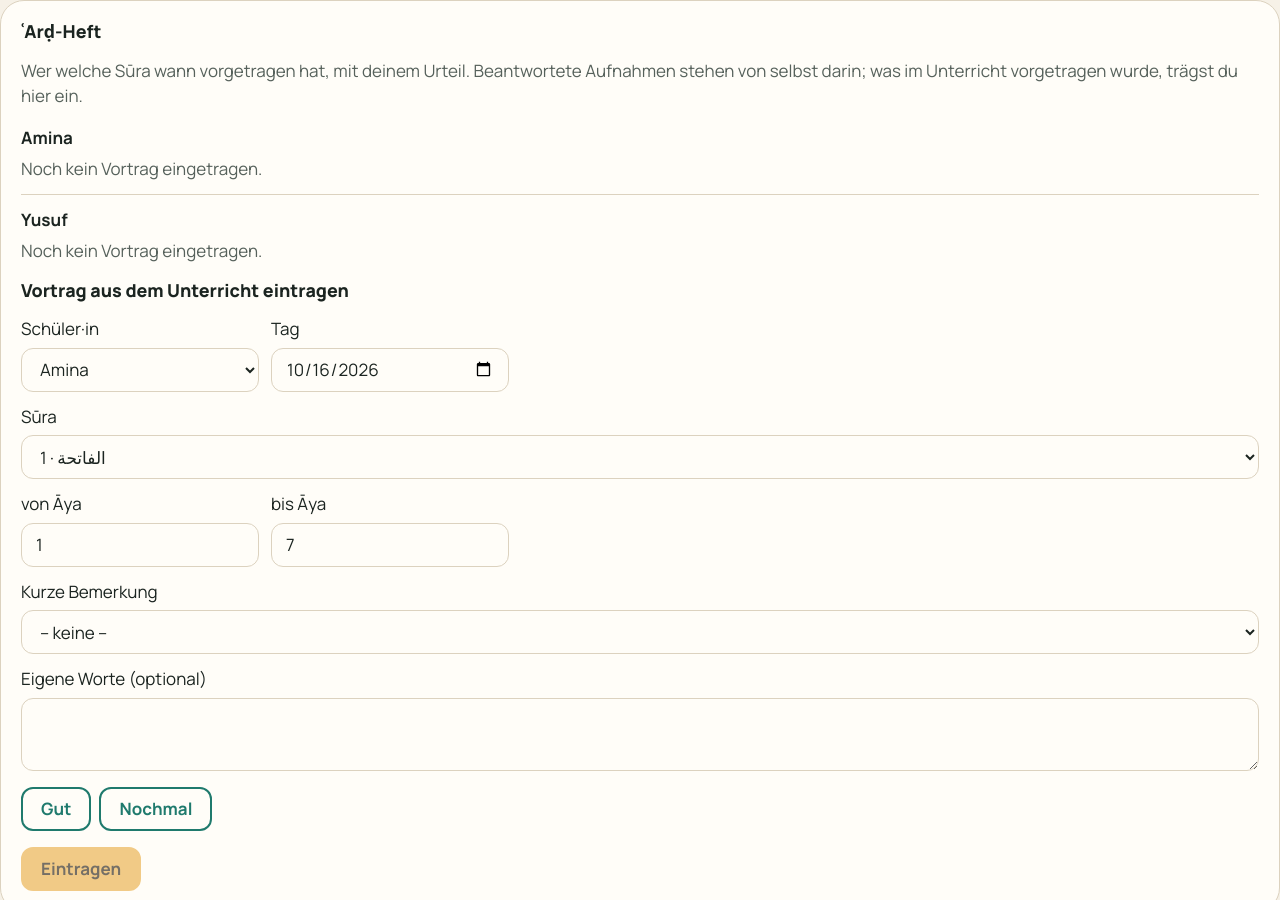
Test case: the ʿarḍ log for the sheikh (T4) › writes what was recited face to face
expect the button "Eintragen" is disabled: met, box [21,846,141,890]
Select "Yusuf" in the dropdown labelled "Schüler·in": (140, 370) [21,348,259,392]
Select "112 · الإخلاص" in the dropdown labelled "Sūra": (640, 457) [21,435,1259,479]
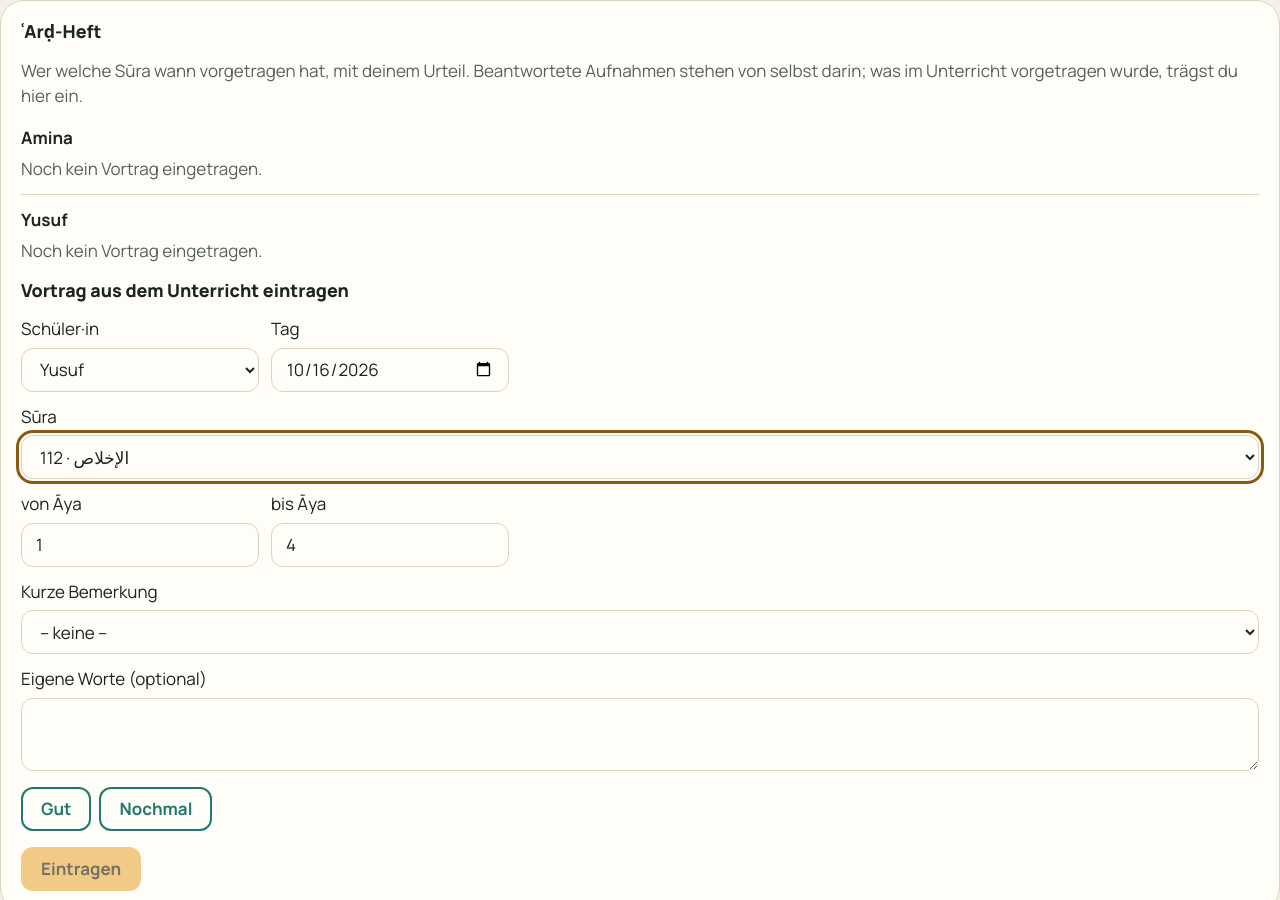
In the date field labelled "Tag": (390, 370) [271,348,509,392], type "2026-01-05"
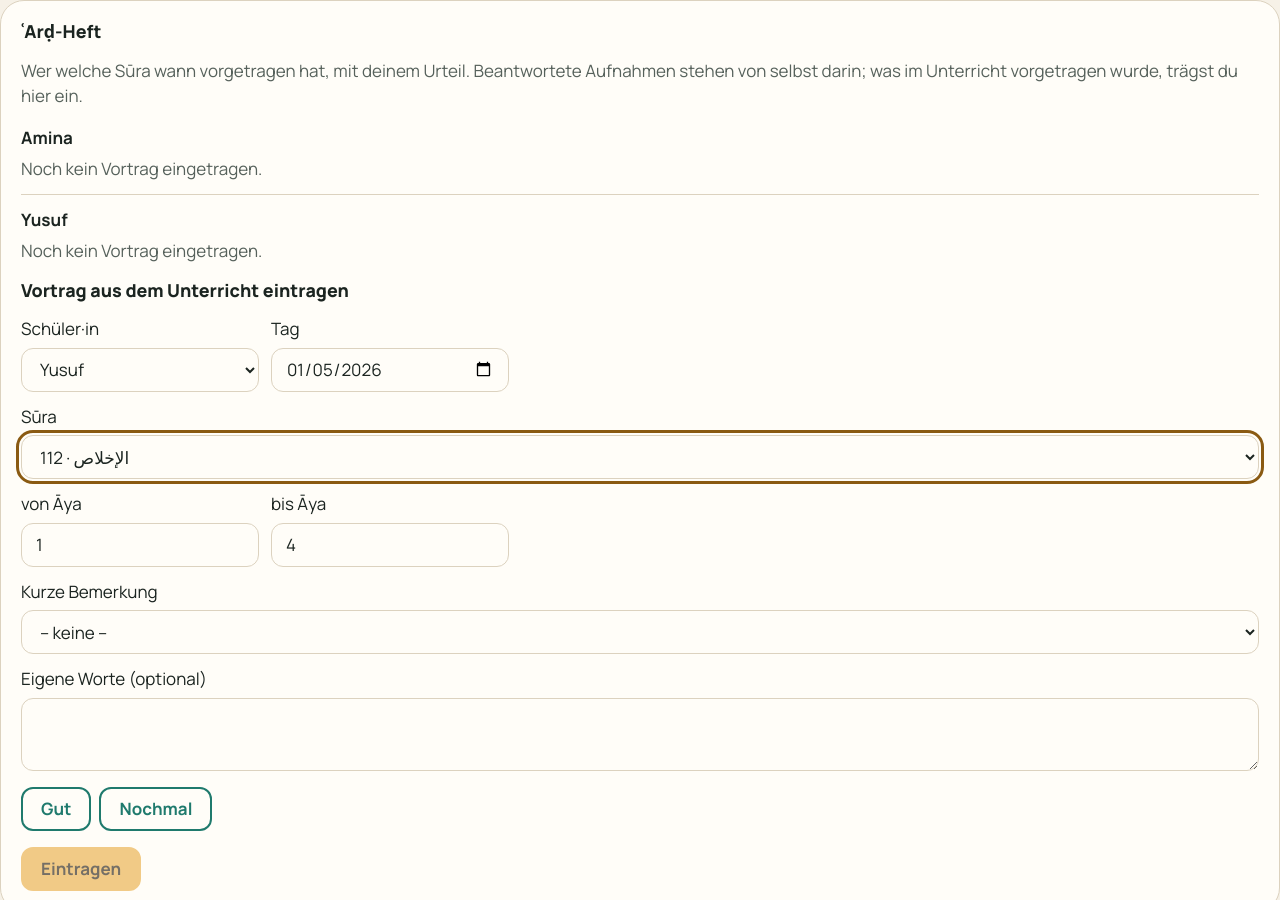
Select "Ghunna zu kurz – halte sie 2 Zählzeiten." in the dropdown labelled "Kurze Bemerkung": (640, 632) [21,610,1259,654]
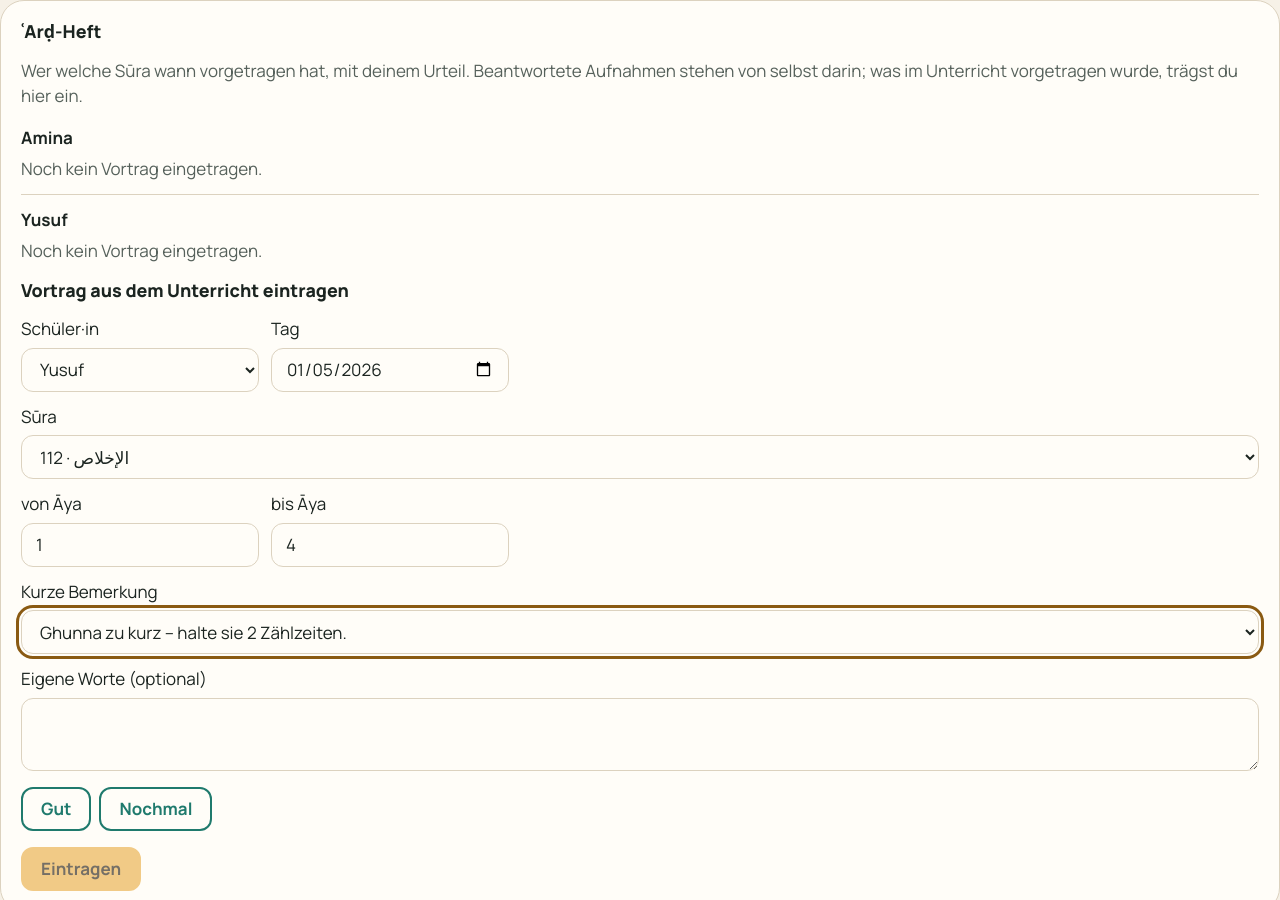
In the text box: (640, 734) [21,698,1259,770], type "  Sehr schön gelesen. "
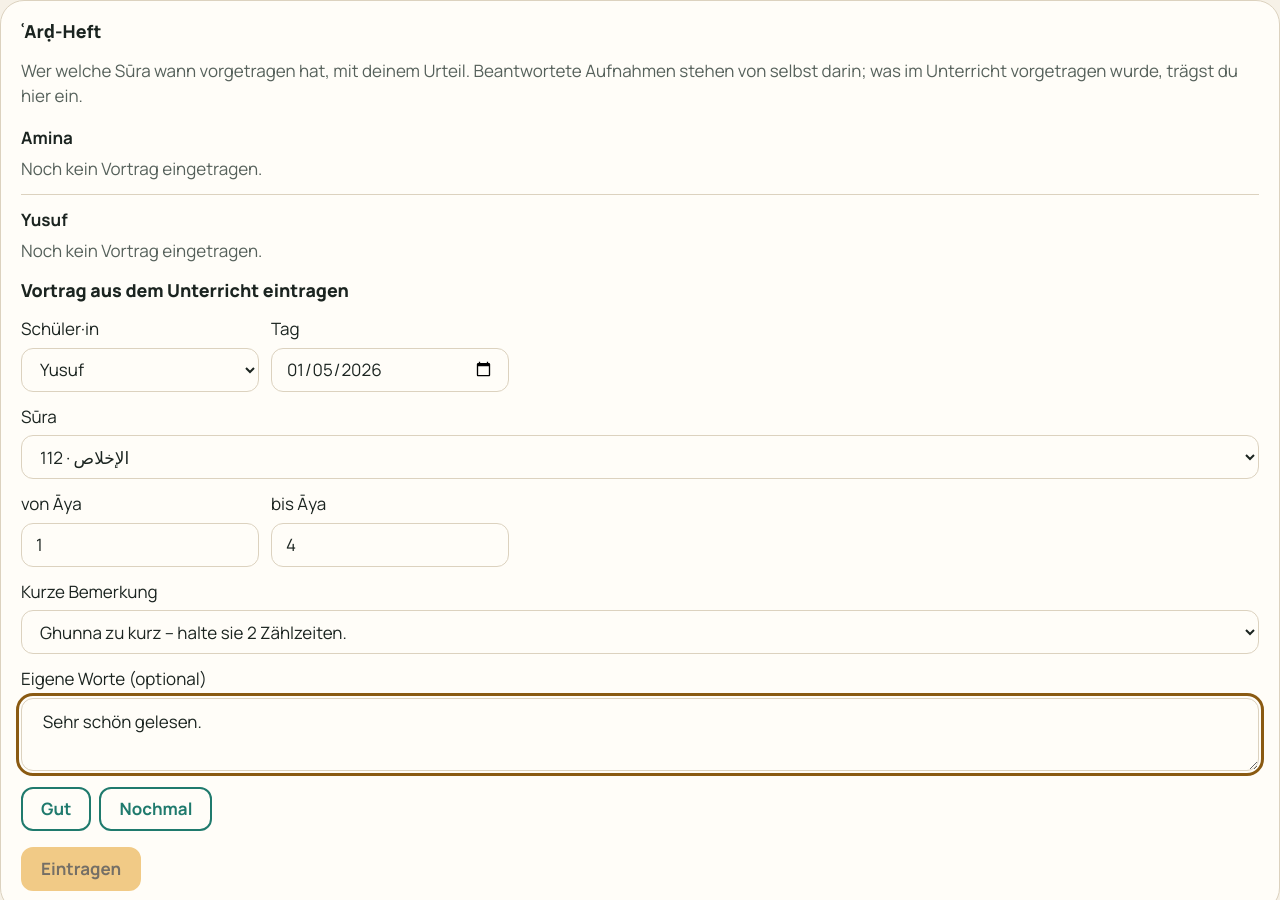
Click the button "Nochmal": (156, 808) [100,786,212,830]
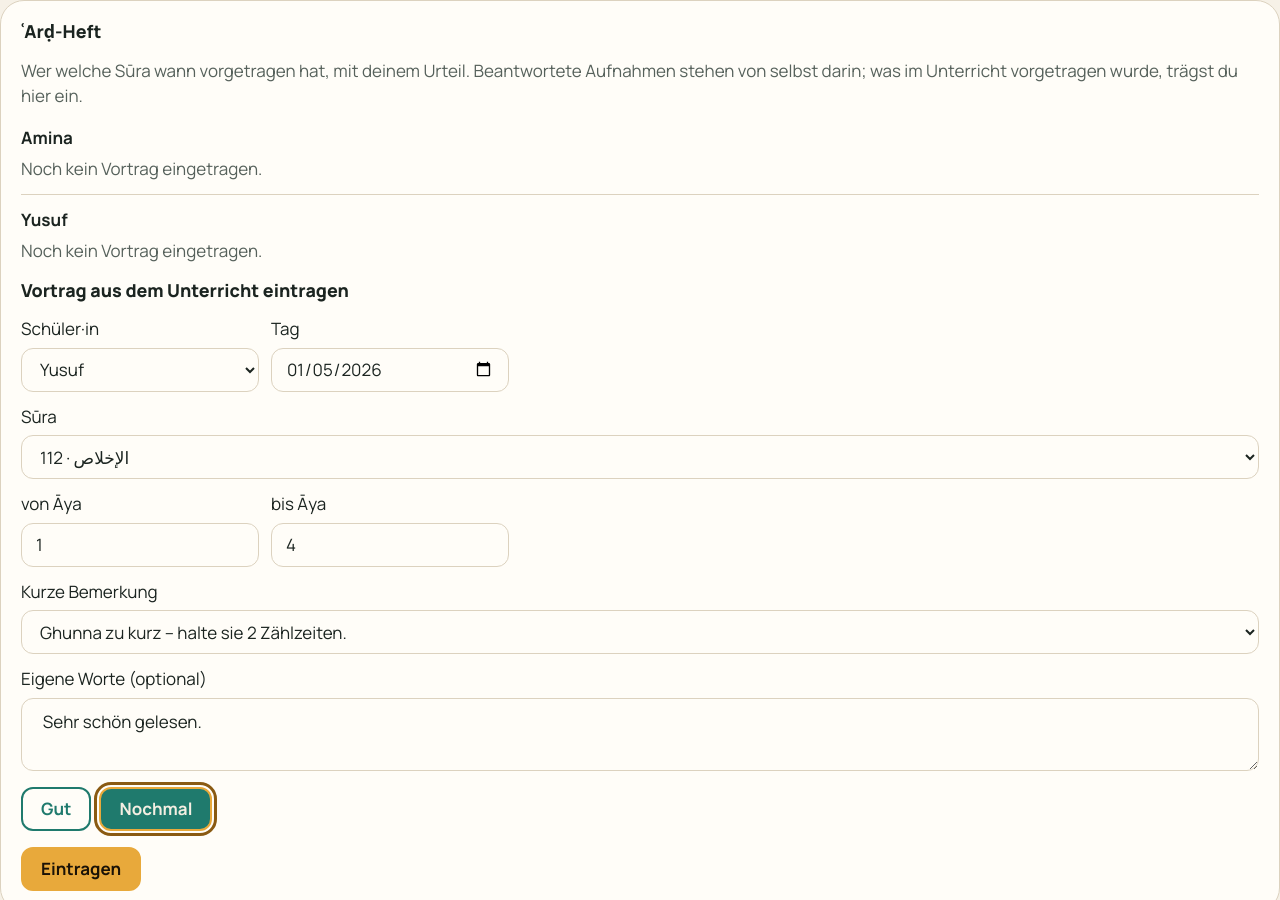
Click the button "Eintragen": (81, 868) [21,846,141,890]
(page scrolled)
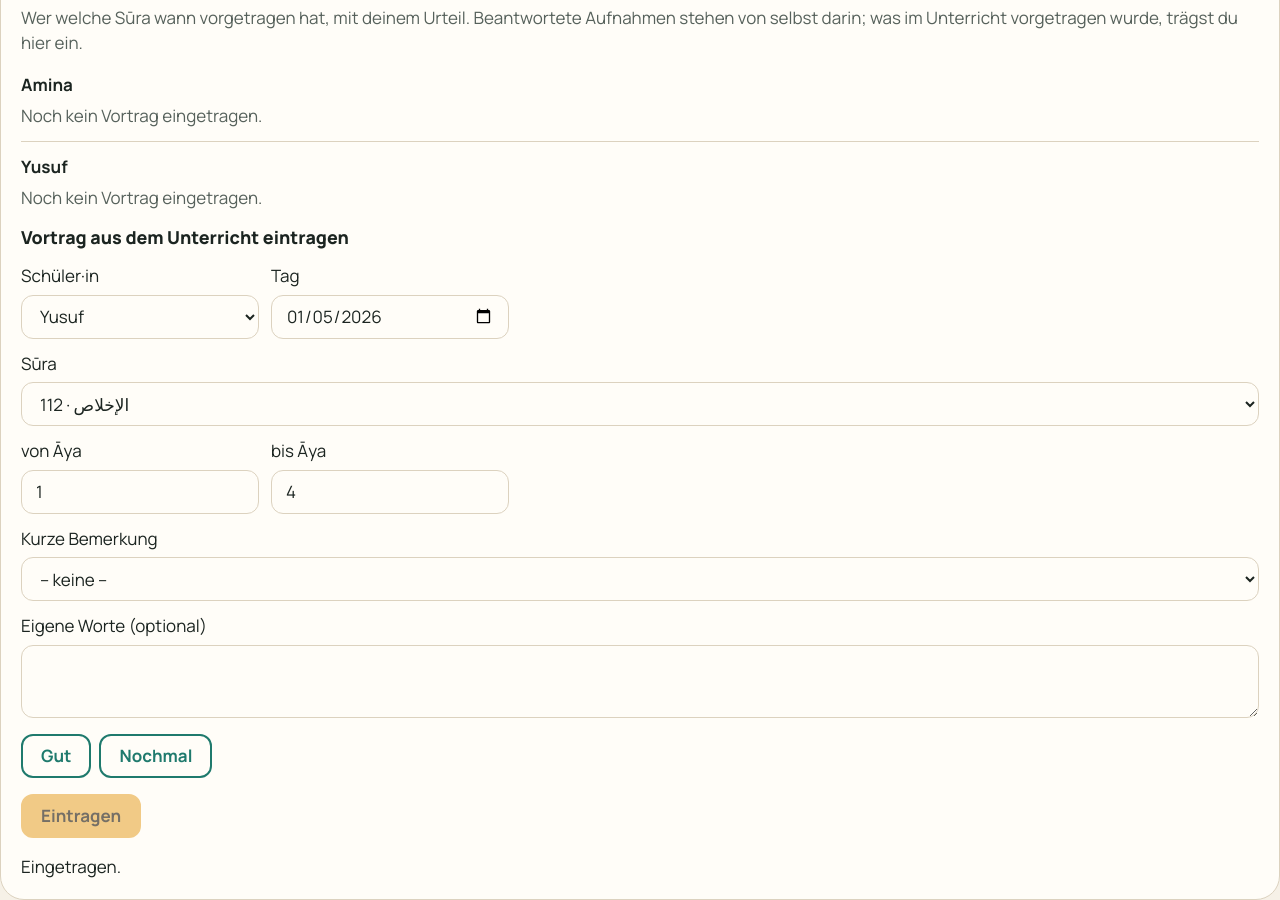
expect the message reads "Eingetragen.": met, box [21,854,121,878]
